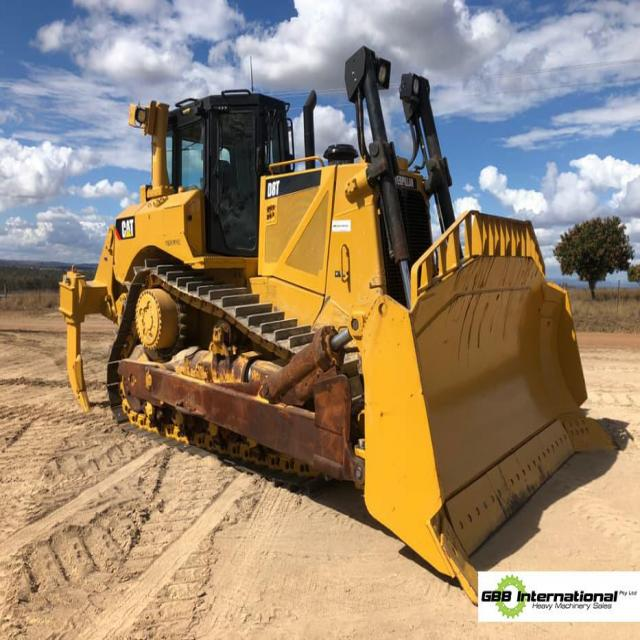Bulldozer: (41, 41, 628, 613)
